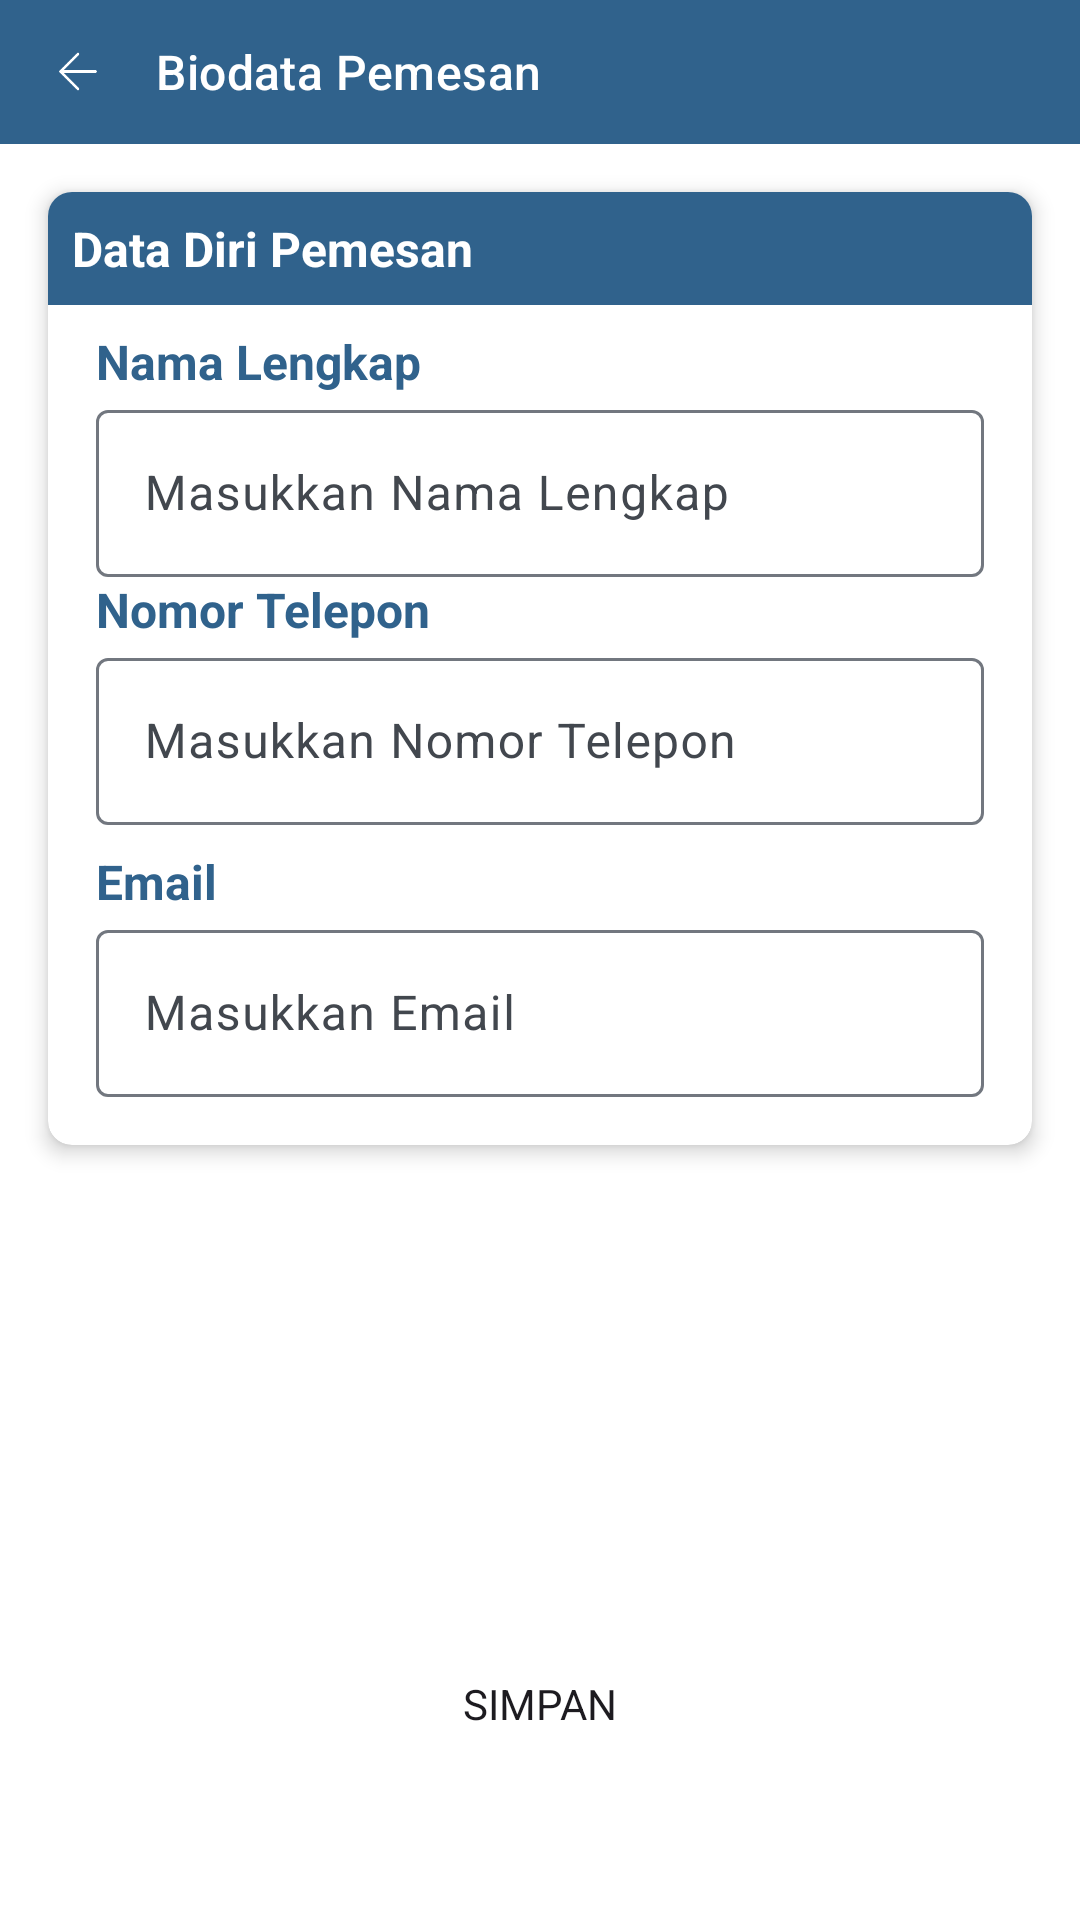

Point at icon controls on the screen. Image size 1080w x 1920h, points as (x,y).
back: (78,71)
